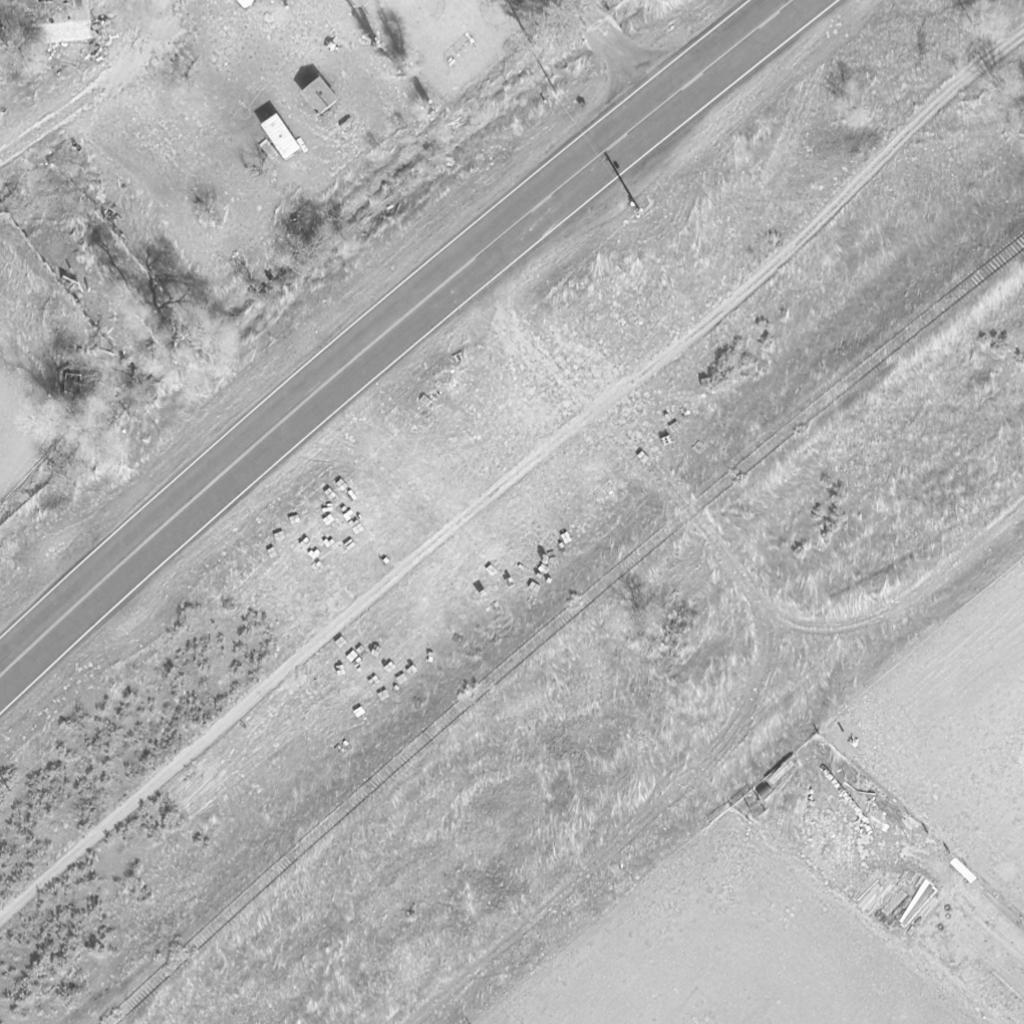vehicle: (262, 113, 300, 159)
